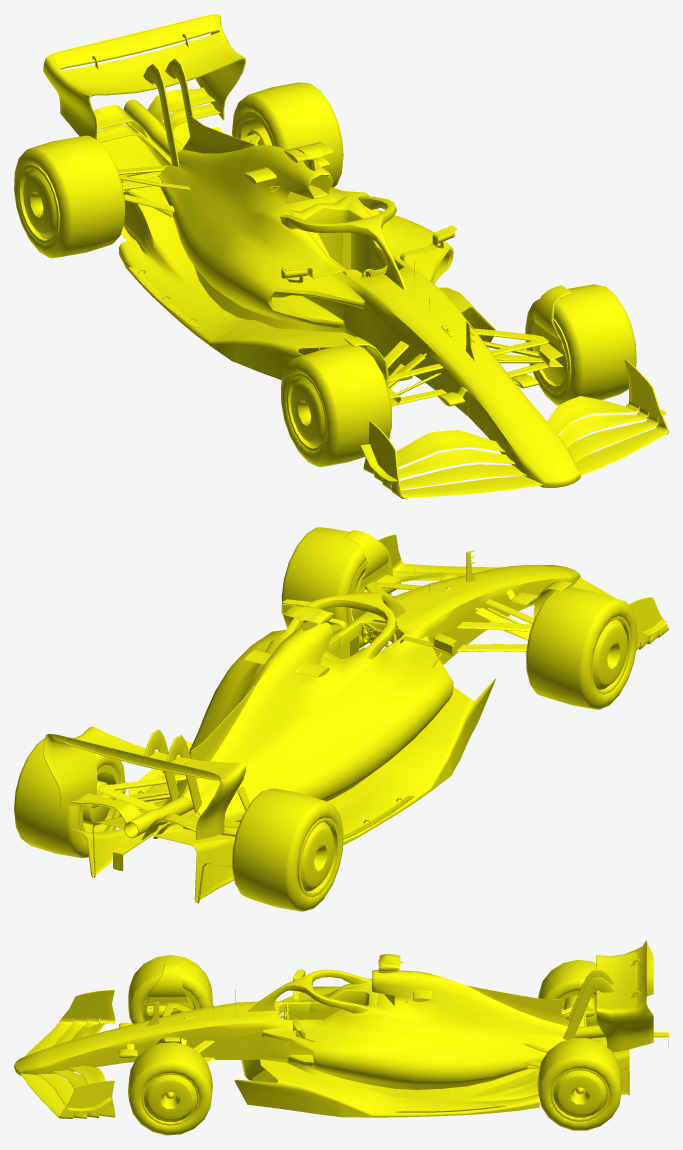
Rendered from F1PS_F1_Car_V10.glb.
3 renders of one model, top to bottom at view 1: azimuth 30°, elevation 25°; view 2: azimuth 150°, elevation 25°; view 3: azimuth 270°, elevation 25°, orthographic. The views are drawn at different scales.
Parts seen in each view (by area): view 1: F1PS_F1_Car_Customizable, F1PS_F1_Car_Static; view 2: F1PS_F1_Car_Customizable, F1PS_F1_Car_Static; view 3: F1PS_F1_Car_Customizable, F1PS_F1_Car_Static.
Part boxes in pixels (x1,y1,x2,y2): F1PS_F1_Car_Customizable: (23,14,668,498); F1PS_F1_Car_Static: (14,34,636,466); F1PS_F1_Car_Customizable: (43,534,668,891); F1PS_F1_Car_Static: (14,527,637,911); F1PS_F1_Car_Customizable: (14,940,653,1121); F1PS_F1_Car_Static: (119,954,668,1135).
Size of the model in its own units: 2.2 by 1.16 by 5.52.
Materials: 2 (2 with a texture image).
